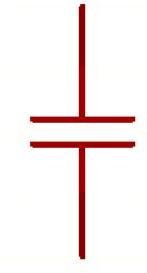Capacitor: (23, 91, 141, 177)
